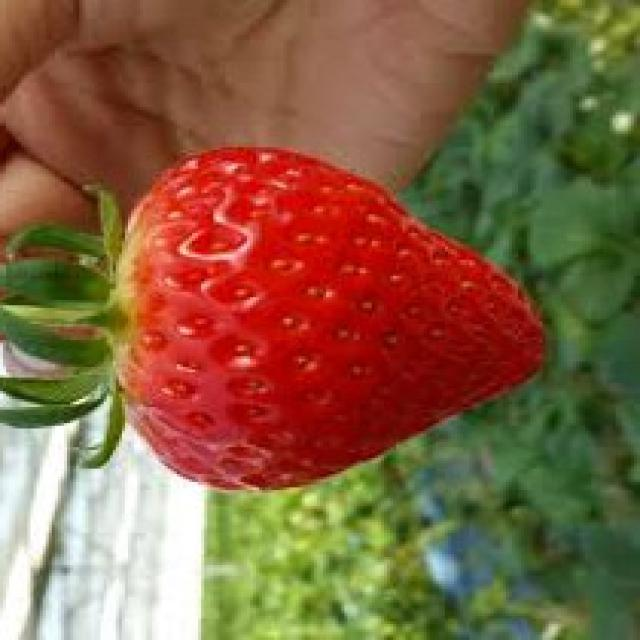mature: (105, 146, 542, 492)
